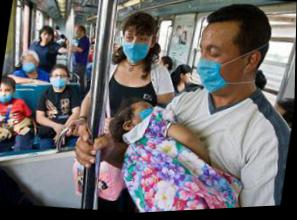NONE: (42, 31, 53, 45), (182, 73, 193, 86)
OK: (192, 41, 248, 99), (119, 27, 158, 68), (51, 73, 68, 93), (20, 58, 38, 76)
WRONG: (1, 85, 16, 106)
